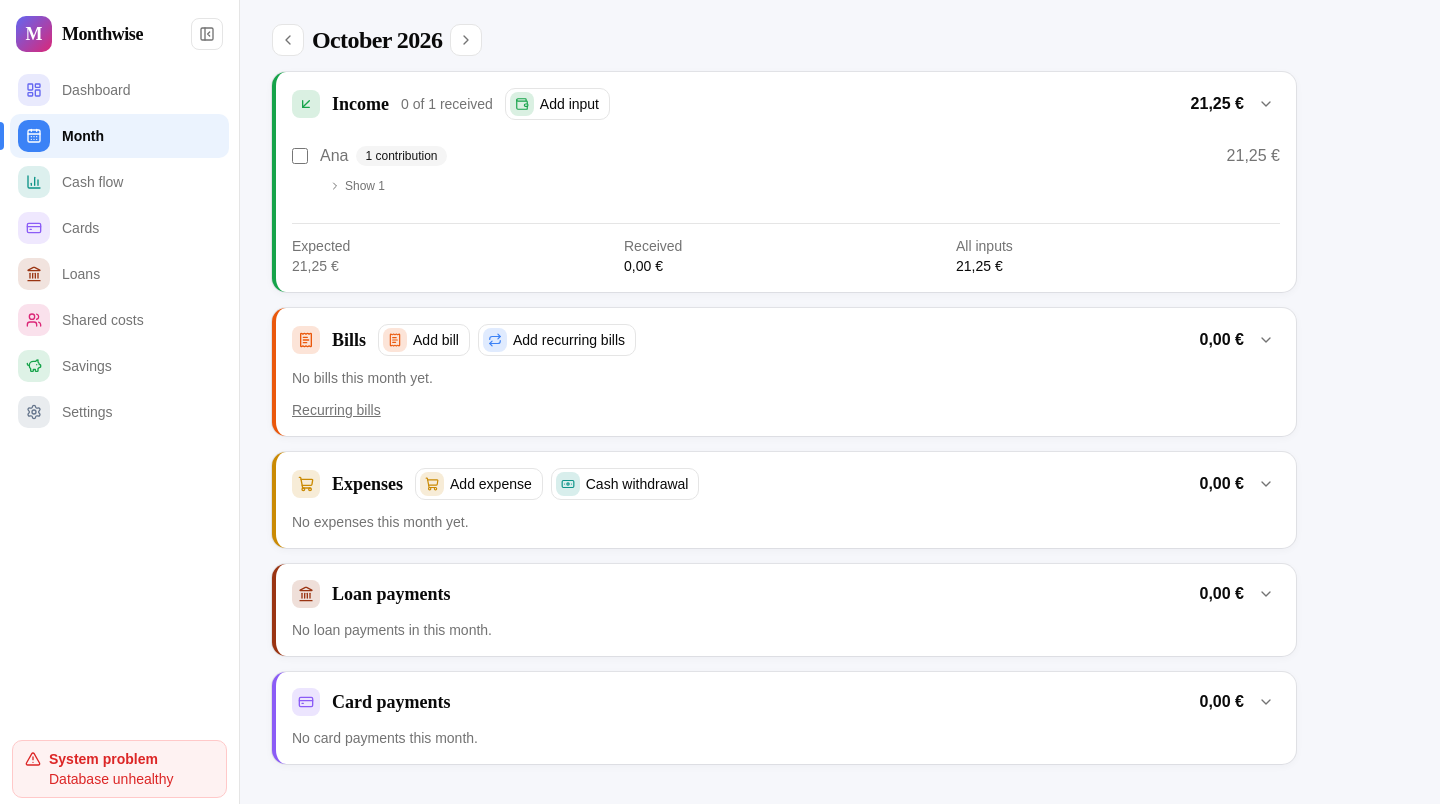
Test: Shared costs on the Month screen › marks a contribution without an account and asks for one when it is ticked
Click the button "Show 1" at (357, 186), box [320,174,394,198]
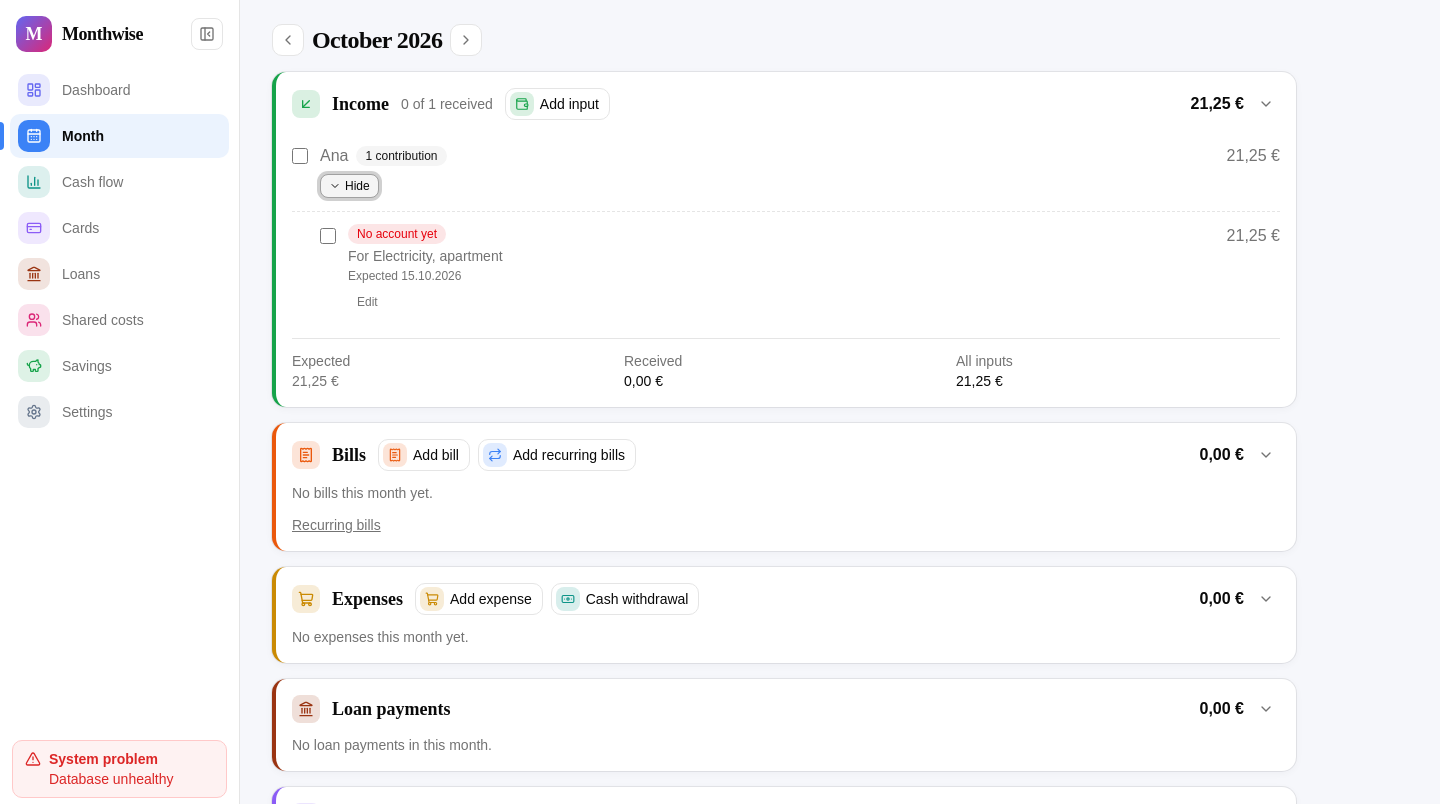
Check: the text "No account yet" is shown, box [348,224,446,244]
Click the checkbox named "Received: Ana, Electricity" at (328, 236), box [320,228,336,244]
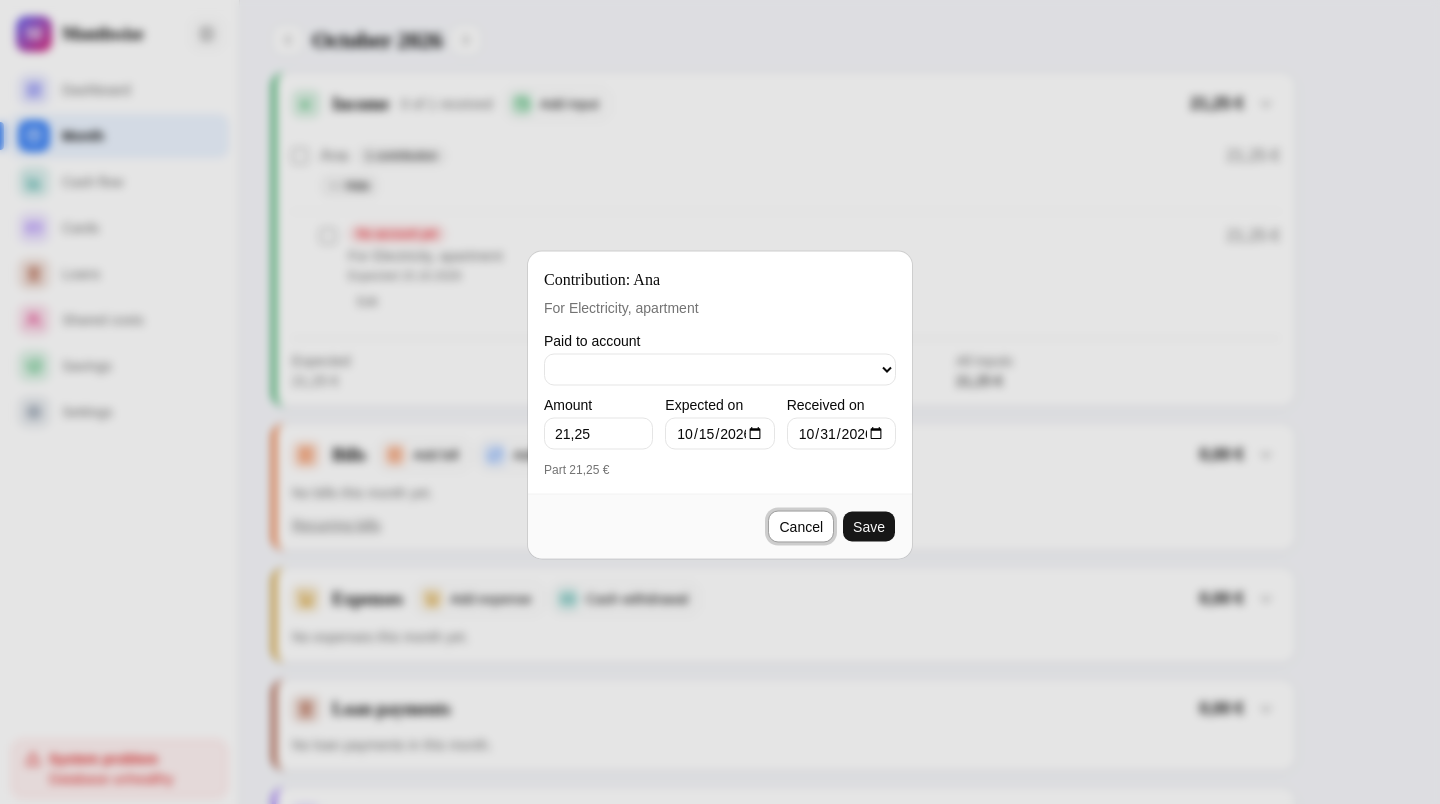
Check: the dropdown labelled "Paid to account" is shown, box [544,354,896,386]
